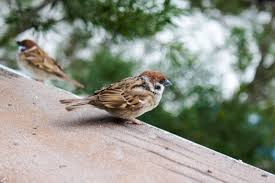hsparrow: (57, 69, 178, 138), (13, 38, 87, 94)
